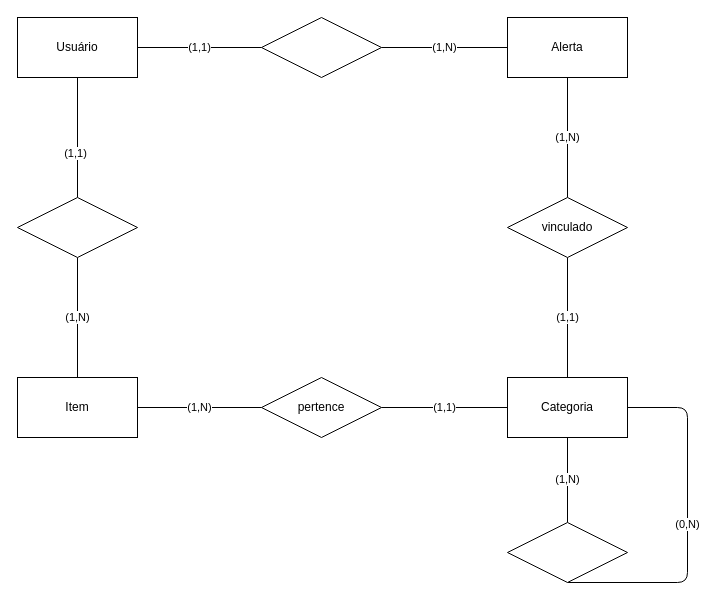
Some shapes in this 717 by 601 pixel diagram are drawn without their labels. The shapes that lost their labels are listed below. From the top down, each one's centre as x and y in pixels, then its label:
(321,47): recebe
(77,227): venda/compra
(567,552): pode ter
